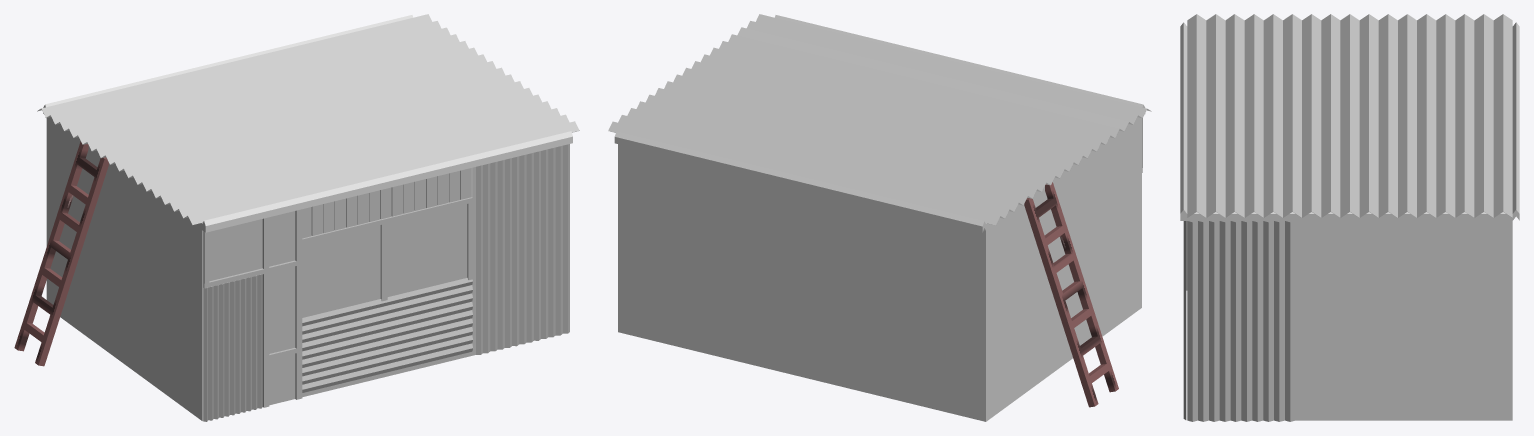
File: BuildingsV2TESR.fbx
The picture shows the model from 3 angles, left to right: view 1: azimuth 30°, elevation 25°; view 2: azimuth 150°, elevation 25°; view 3: azimuth 270°, elevation 25°; orthographic projection. The views are drawn at different scales.
Parts seen in each view (by area): view 1: Cube.010, Cube.009, Cube.024, Cube.023, Cube.025, Cube.026, Ladder.001, Cube.027; view 2: Cube.009, Cube.010, Ladder.001; view 3: Cube.010, Cube.009, Cube.029, Cube.023.
Part boxes in pixels (<box>): Cube.010: <box>37,14,579,225</box>; Cube.009: <box>43,15,572,421</box>; Cube.024: <box>203,209,302,421</box>; Cube.023: <box>472,144,569,355</box>; Cube.025: <box>302,197,472,317</box>; Cube.026: <box>302,278,472,397</box>; Ladder.001: <box>14,141,108,366</box>; Cube.027: <box>302,168,471,238</box>; Cube.009: <box>614,15,1145,421</box>; Cube.010: <box>608,14,1151,225</box>; Ladder.001: <box>1024,182,1118,407</box>; Cube.010: <box>1187,14,1512,217</box>; Cube.009: <box>1180,22,1519,420</box>; Cube.029: <box>1187,221,1295,421</box>; Cube.023: <box>1183,221,1186,419</box>.
Size of the model in its own units: 1745 by 1095 by 763.
